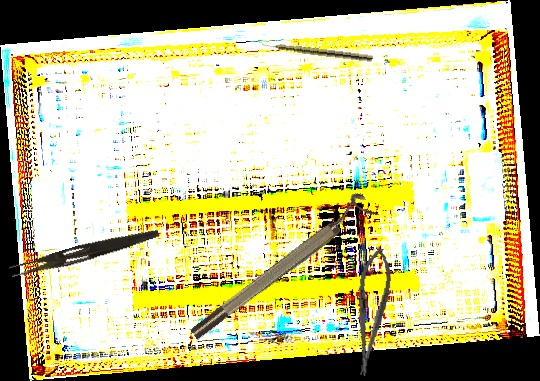Dressing Forceps: (8, 222, 161, 283)
Fixation Ring: (181, 189, 378, 344)
Handpiece: (255, 39, 374, 63)
Needle Holder: (346, 246, 396, 378)
